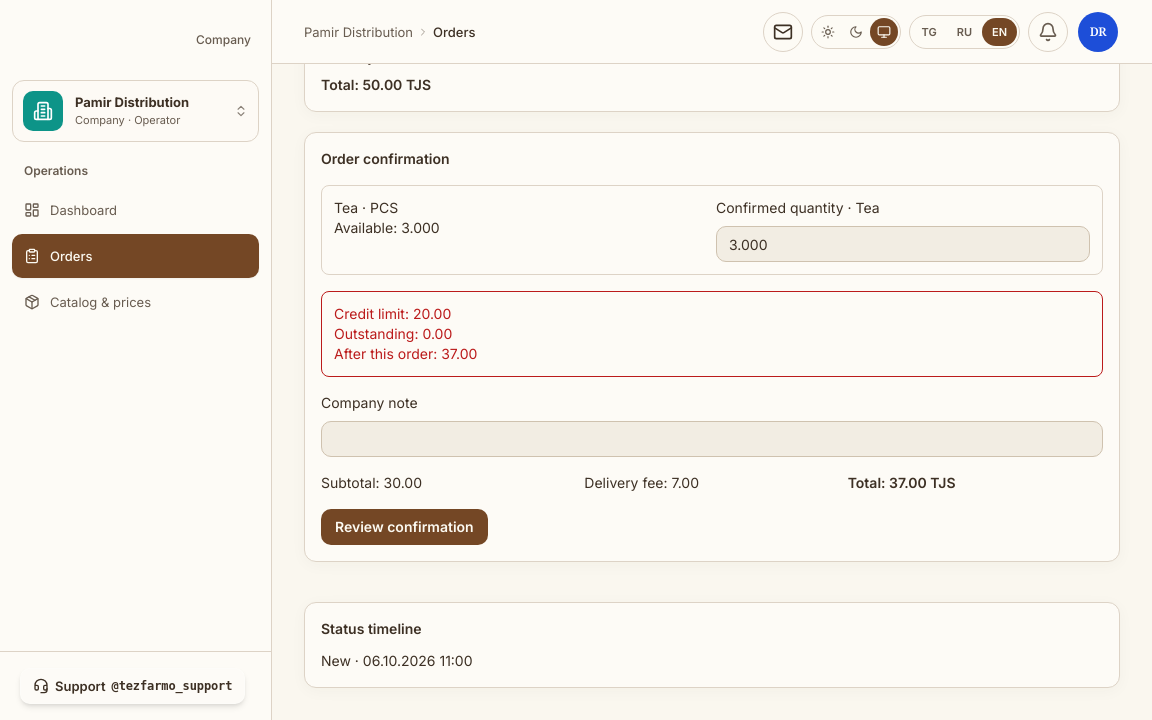
Test: keeps discount and override fields from operators
The image size is (1152, 720).
(page scrolled)
Click the button "Review confirmation".
click(404, 527)  # box top-left (321, 509), bottom-right (488, 545)
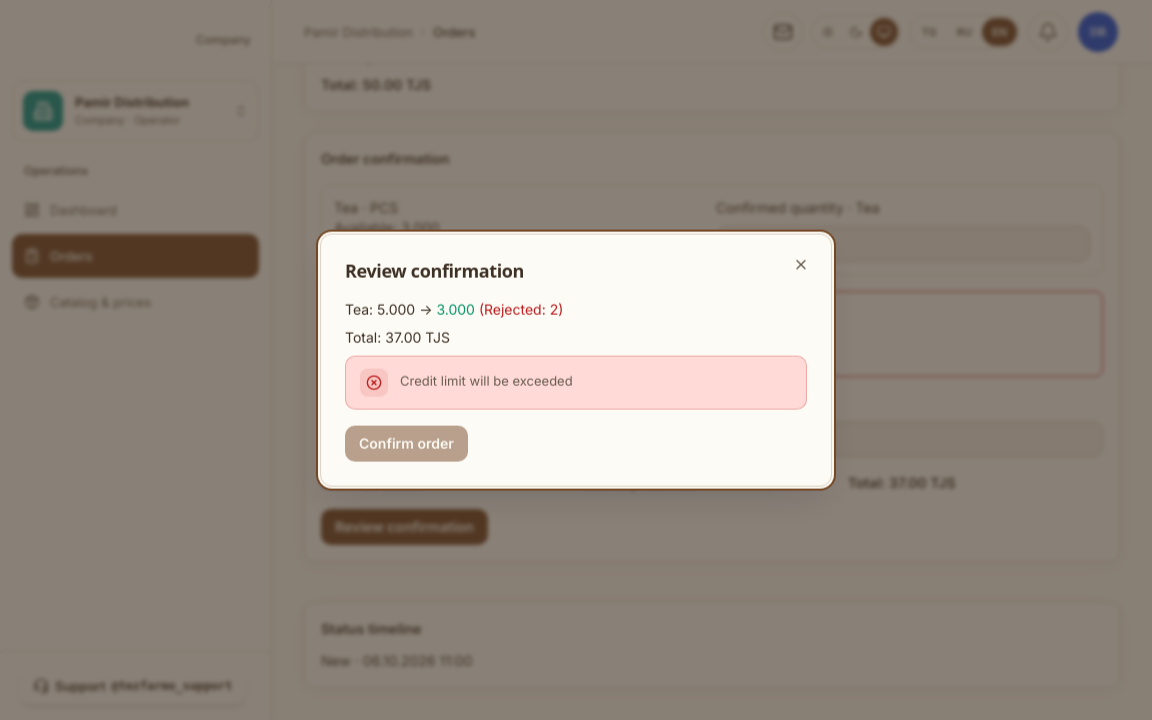
Expected: the button "Confirm order" is disabled, top-left (345, 425), bottom-right (468, 461)
